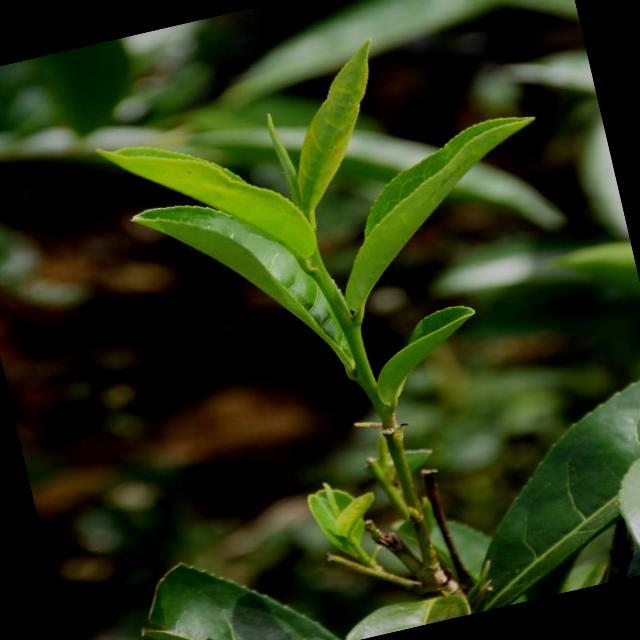Stem: (314, 271, 336, 292)
